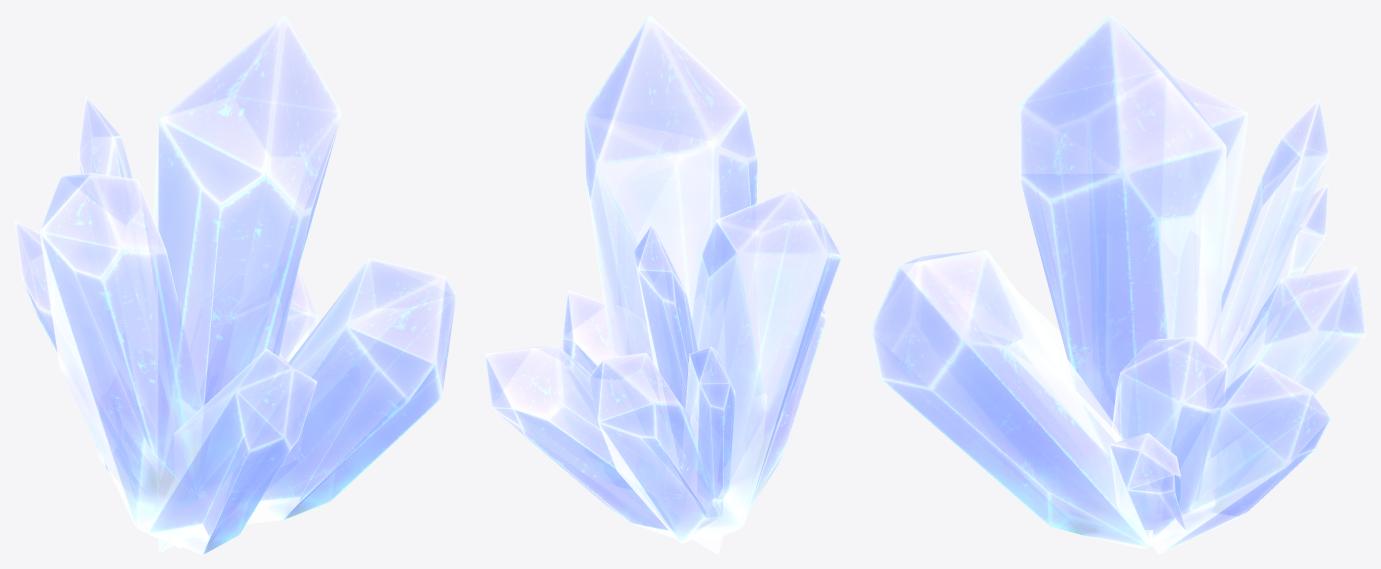
Rendered from CrystalFormation.fbx.
3 views of the same model, side by side, from view 1: azimuth 30°, elevation 25°; view 2: azimuth 150°, elevation 25°; view 3: azimuth 270°, elevation 25° (orthographic). The views are drawn at different scales.
Visible parts, largest first — view 1: Cube.079, Cube.077, Cube.084, Cube.078, Cube.086, Cube.081, Cube.083, Cube.080; view 2: Cube.079, Cube.077, Cube.080, Cube.082, Cube.083, Cube.081, Cube.086, Cube.078; view 3: Cube.079, Cube.084, Cube.082, Cube.077, Cube.086, Cube.080, Cube.083, Cube.085, Cube.081, Cube.078.
Part boxes in pixels (x1=…): Cube.079: x1=151, y1=14, x2=342, y2=553; Cube.077: x1=39, y1=173, x2=202, y2=547; Cube.084: x1=246, y1=257, x2=456, y2=524; Cube.078: x1=147, y1=348, x2=317, y2=554; Cube.086: x1=175, y1=267, x2=318, y2=548; Cube.081: x1=14, y1=220, x2=155, y2=487; Cube.083: x1=77, y1=95, x2=154, y2=444; Cube.080: x1=96, y1=409, x2=156, y2=514; Cube.079: x1=584, y1=14, x2=761, y2=554; Cube.077: x1=680, y1=189, x2=841, y2=539; Cube.080: x1=588, y1=352, x2=722, y2=543; Cube.082: x1=485, y1=345, x2=683, y2=538; Cube.083: x1=633, y1=224, x2=701, y2=473; Cube.081: x1=681, y1=346, x2=735, y2=502; Cube.086: x1=562, y1=290, x2=652, y2=426; Cube.078: x1=722, y1=306, x2=827, y2=533; Cube.079: x1=1018, y1=14, x2=1226, y2=519; Cube.084: x1=870, y1=250, x2=1163, y2=548; Cube.082: x1=1152, y1=361, x2=1331, y2=554; Cube.077: x1=1097, y1=73, x2=1248, y2=405; Cube.086: x1=1112, y1=336, x2=1227, y2=512; Cube.080: x1=1184, y1=266, x2=1366, y2=523; Cube.083: x1=1206, y1=99, x2=1329, y2=388; Cube.085: x1=1109, y1=433, x2=1186, y2=541; Cube.081: x1=1223, y1=182, x2=1328, y2=377; Cube.078: x1=983, y1=292, x2=1113, y2=419.
Bounding box in the file's own units: 137 × 217 × 171.
